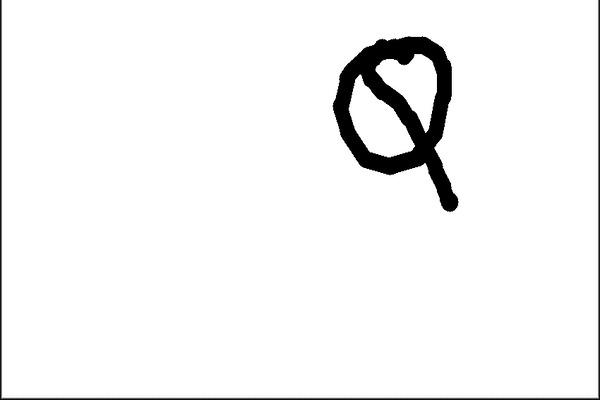Q: (322, 24, 464, 213)
